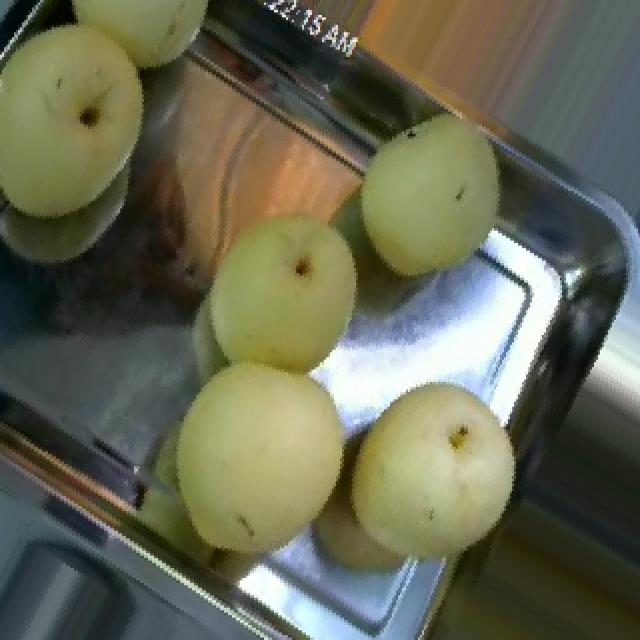Fruit: (84, 0, 410, 389), (128, 325, 372, 580), (308, 357, 542, 608), (324, 84, 534, 305), (0, 0, 184, 248), (326, 0, 614, 154)
